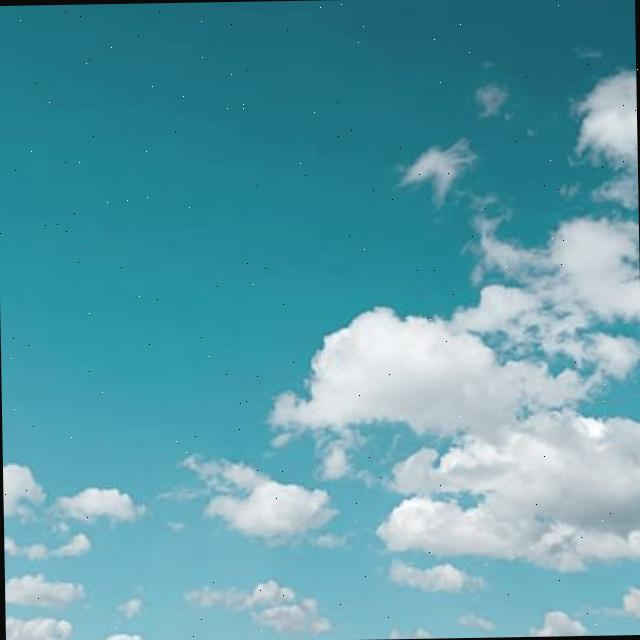Cu: (1, 77, 640, 603)
